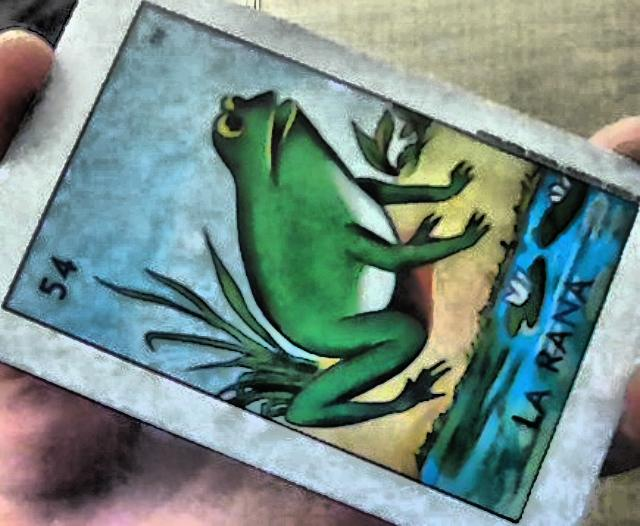La Rana: (4, 3, 638, 521)
